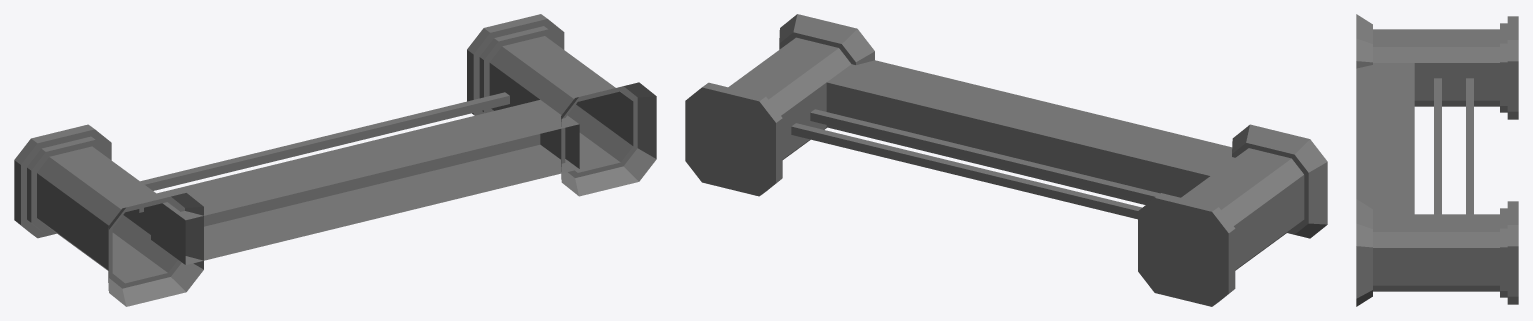
Rendered from P_Fence01.fbx.
3 views of the same model, side by side, from view 1: azimuth 30°, elevation 25°; view 2: azimuth 150°, elevation 25°; view 3: azimuth 270°, elevation 25° (orthographic). The views are drawn at different scales.
Visible parts, largest first — view 1: fence03_sample; view 2: fence03_sample; view 3: fence03_sample.
Part boxes in pixels (left/top/right/bottom): fence03_sample: left=14, top=14, right=656, bottom=306; fence03_sample: left=685, top=14, right=1327, bottom=306; fence03_sample: left=1356, top=14, right=1518, bottom=306.
Size of the model in its own units: 484 by 84.07 by 148.
